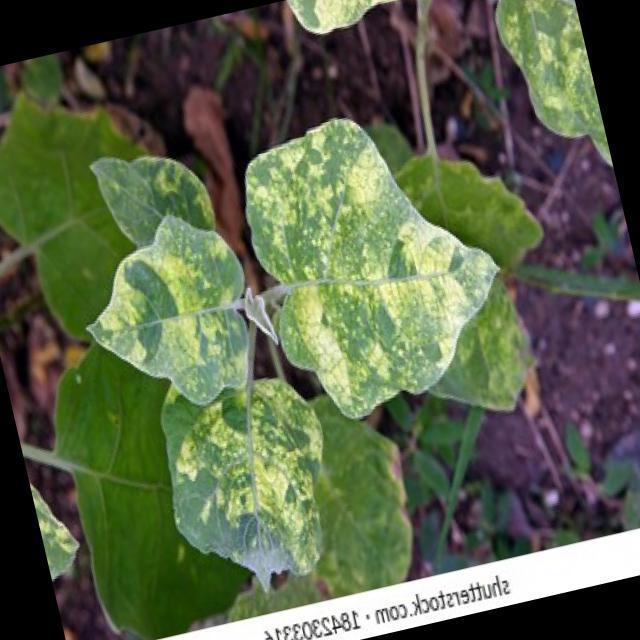Mosaic Virus: (248, 87, 522, 419), (166, 358, 330, 560), (80, 221, 257, 397), (466, 0, 607, 162)
